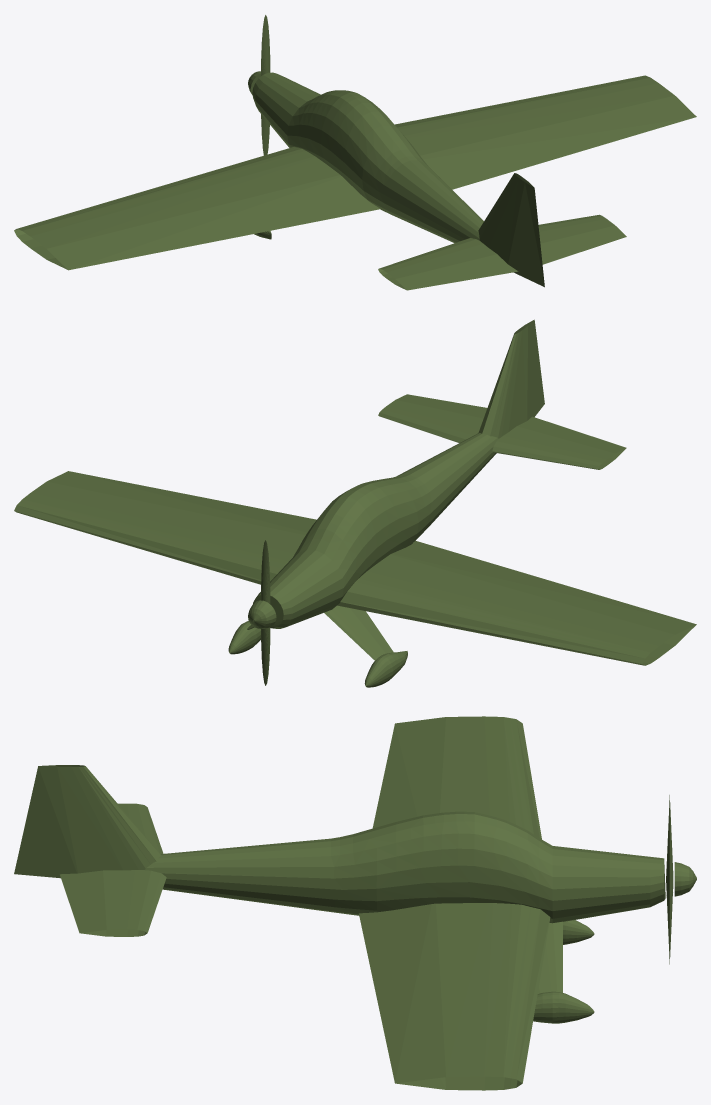
3 renders of one model, top to bottom at view 1: azimuth 30°, elevation 25°; view 2: azimuth 150°, elevation 25°; view 3: azimuth 270°, elevation 25°, orthographic. The views are drawn at different scales.
Visible parts, largest first — view 1: body, propeller; view 2: body, propeller; view 3: body, propeller.
Part boxes in pixels (box(x1,y1,x2,y2)): body: box(14, 71, 696, 290); propeller: box(261, 15, 270, 155); body: box(14, 319, 696, 687); propeller: box(261, 540, 270, 685); body: box(14, 716, 696, 1090); propeller: box(666, 795, 673, 964).
Size of the model in its own units: 1000 by 282 by 801.
